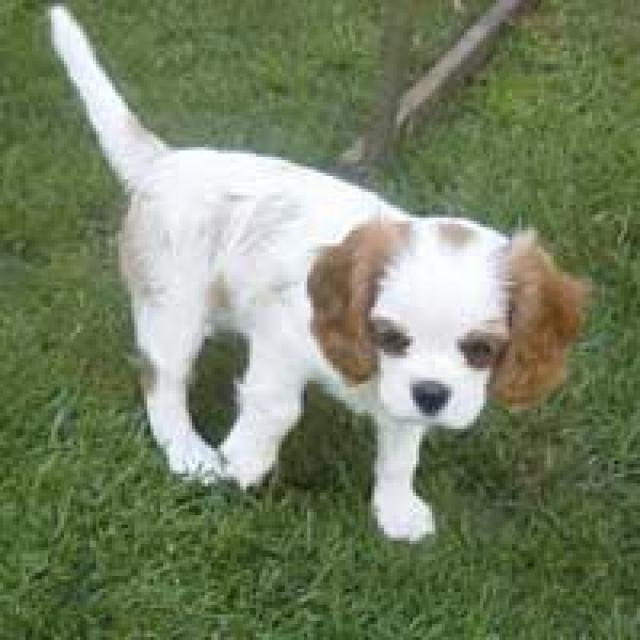blenheim_spaniel: (45, 6, 592, 541)
